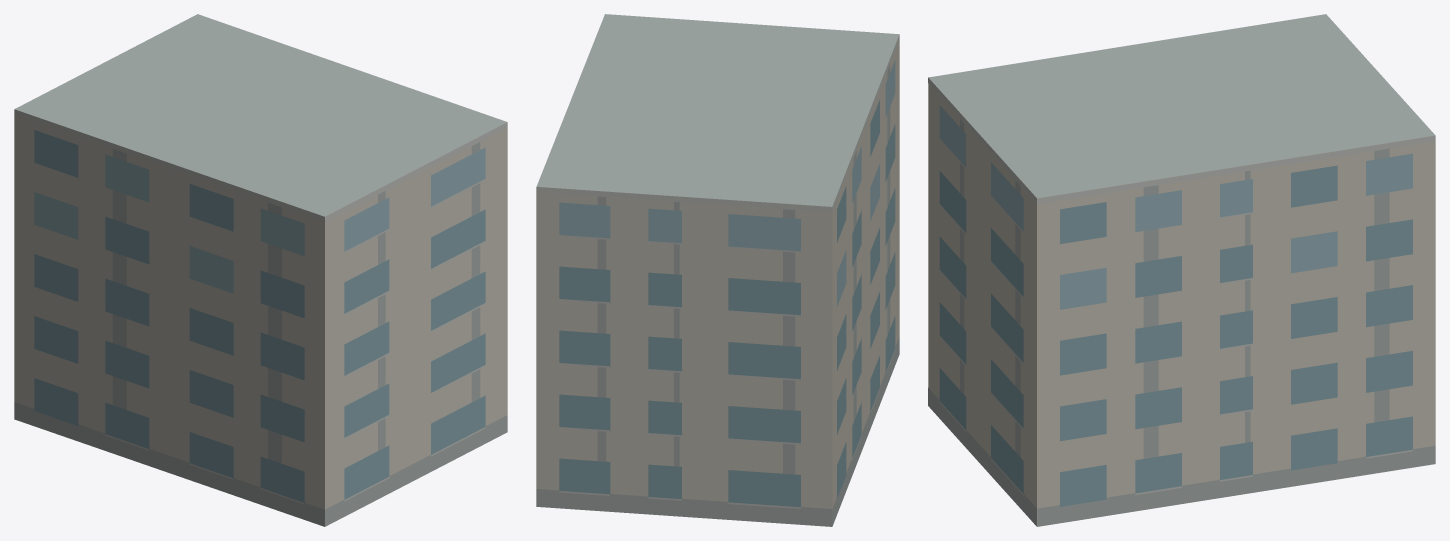
Rendered from survey-upis-32867615.glb.
3 views of the same model, side by side, from view 1: azimuth 30°, elevation 25°; view 2: azimuth 150°, elevation 25°; view 3: azimuth 270°, elevation 25° (orthographic). The views are drawn at different scales.
Visible parts, largest first — view 1: survey-upis-32867615.tmp; view 2: survey-upis-32867615.tmp; view 3: survey-upis-32867615.tmp.
Part boxes in pixels (left/top/right/bottom): survey-upis-32867615.tmp: left=14, top=14, right=507, bottom=526; survey-upis-32867615.tmp: left=536, top=14, right=899, bottom=526; survey-upis-32867615.tmp: left=928, top=14, right=1435, bottom=526.
Size of the model in its own units: 16.62 by 13.8 by 19.33.
